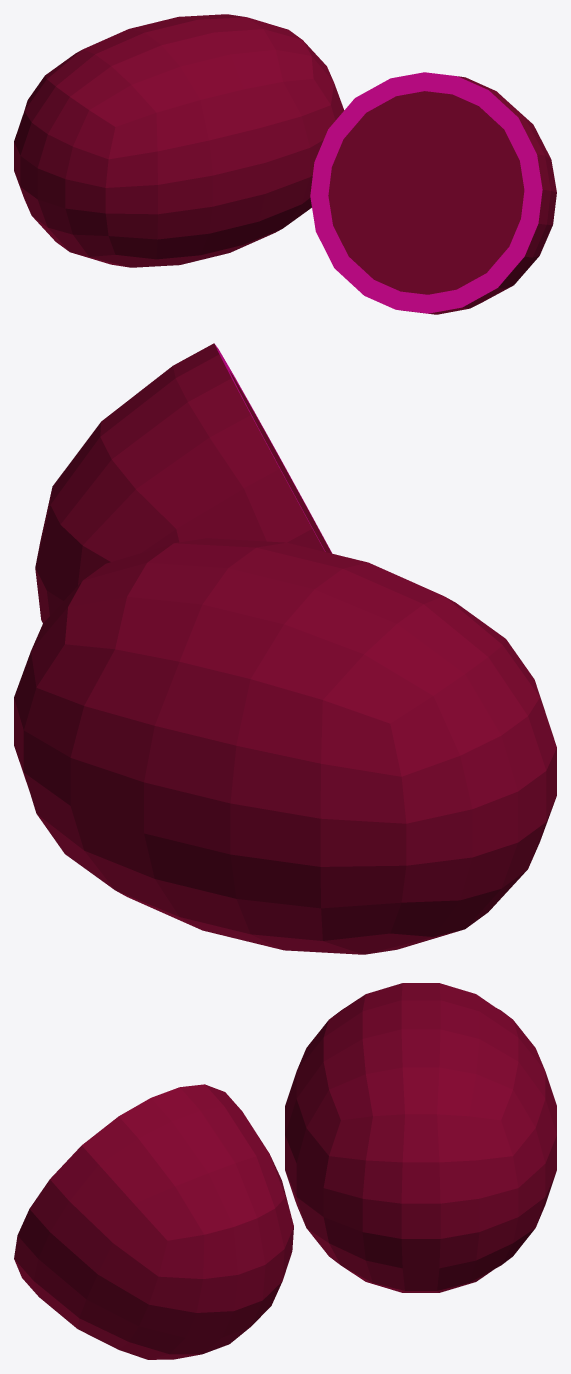
The model's file is Melon_01.fbx.
3 views of the same model, one above another, from view 1: azimuth 30°, elevation 25°; view 2: azimuth 150°, elevation 25°; view 3: azimuth 270°, elevation 25° (orthographic). The views are drawn at different scales.
Parts seen in each view (by area): view 1: Melon_01; view 2: Melon_01; view 3: Melon_01.
Part boxes in pixels (left/top/right/bottom): Melon_01: left=14, top=14, right=556, bottom=314; Melon_01: left=14, top=343, right=556, bottom=954; Melon_01: left=14, top=983, right=556, bottom=1359.
Bounding box in the file's own units: 9.44 × 5.01 × 9.78.
